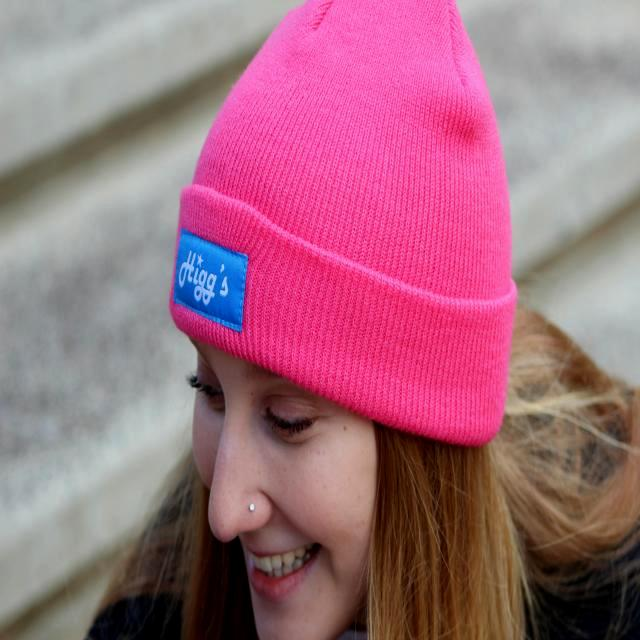no_hard_hat: (170, 0, 517, 446)
person: (88, 13, 640, 640)
